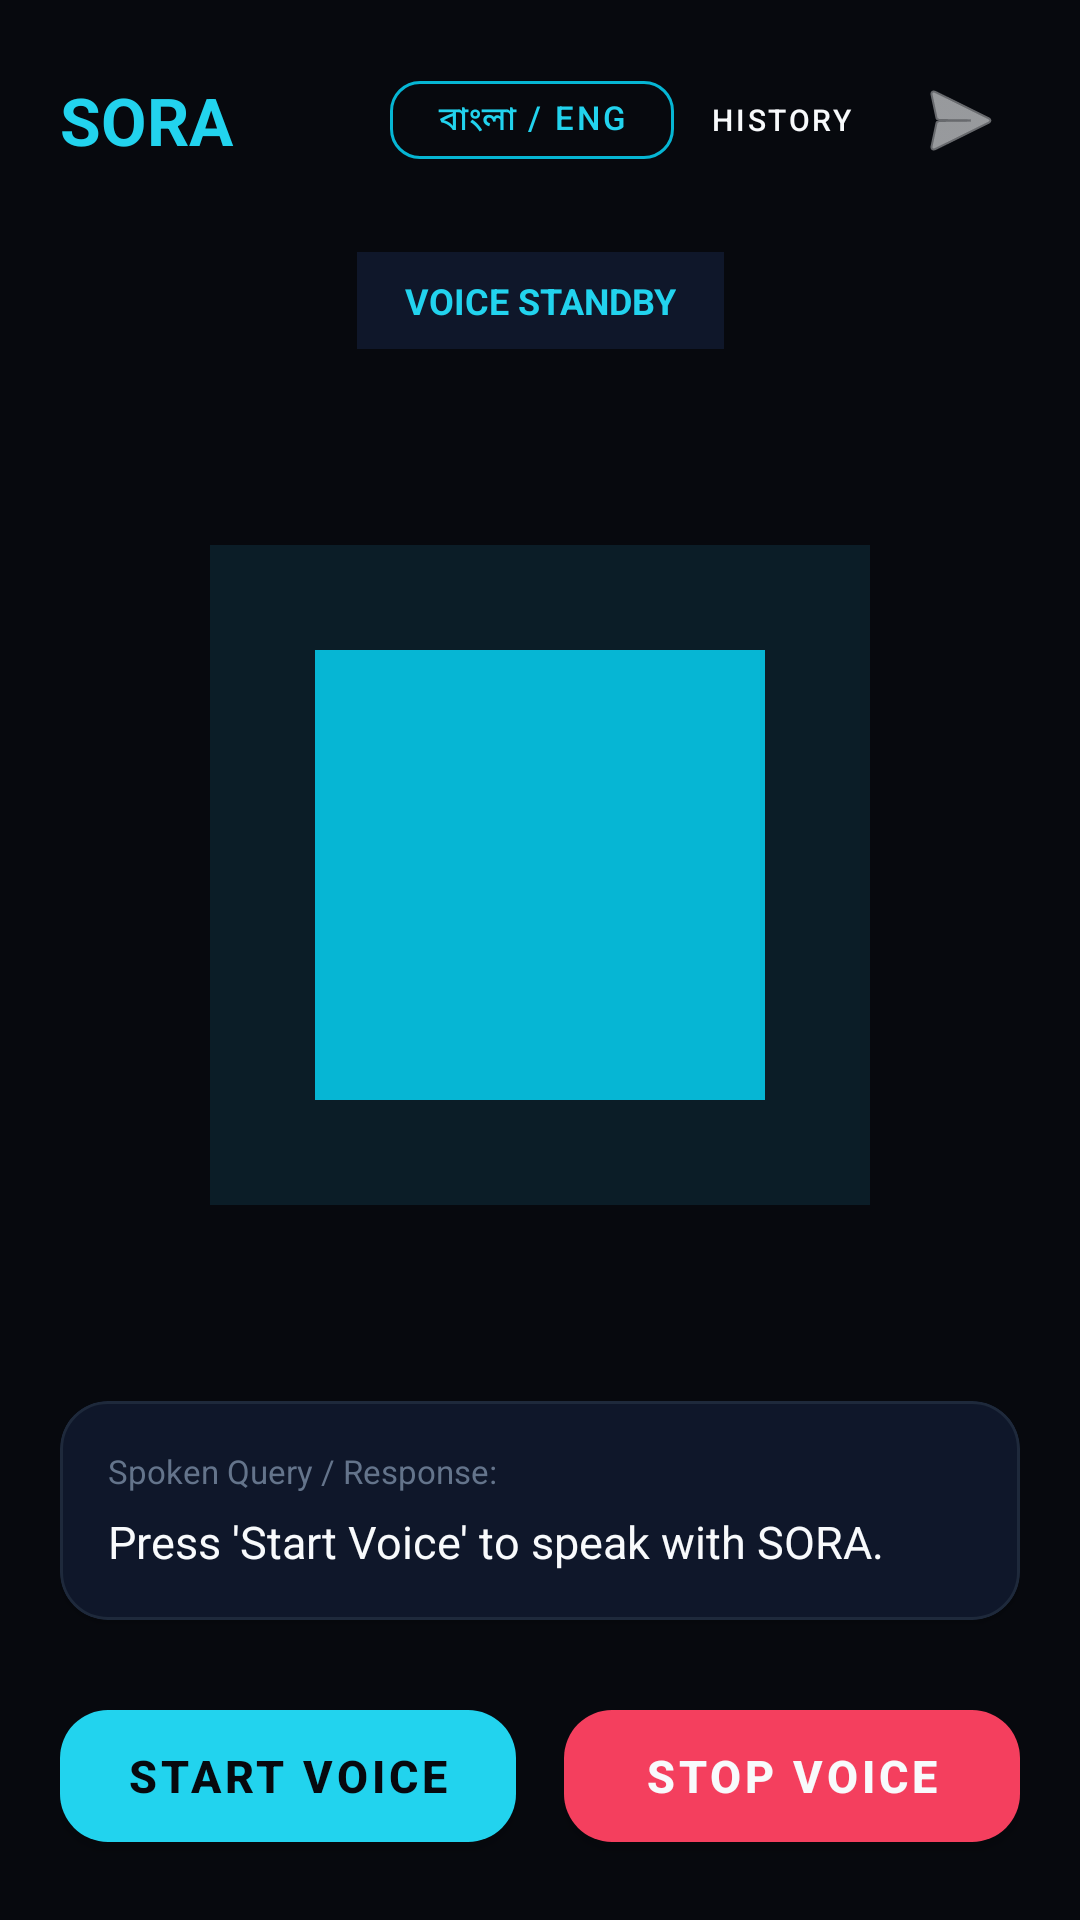

Screen size 1080px×1920px. Icon name, then its center in pixels as [x,y]:
send: [961,120]
